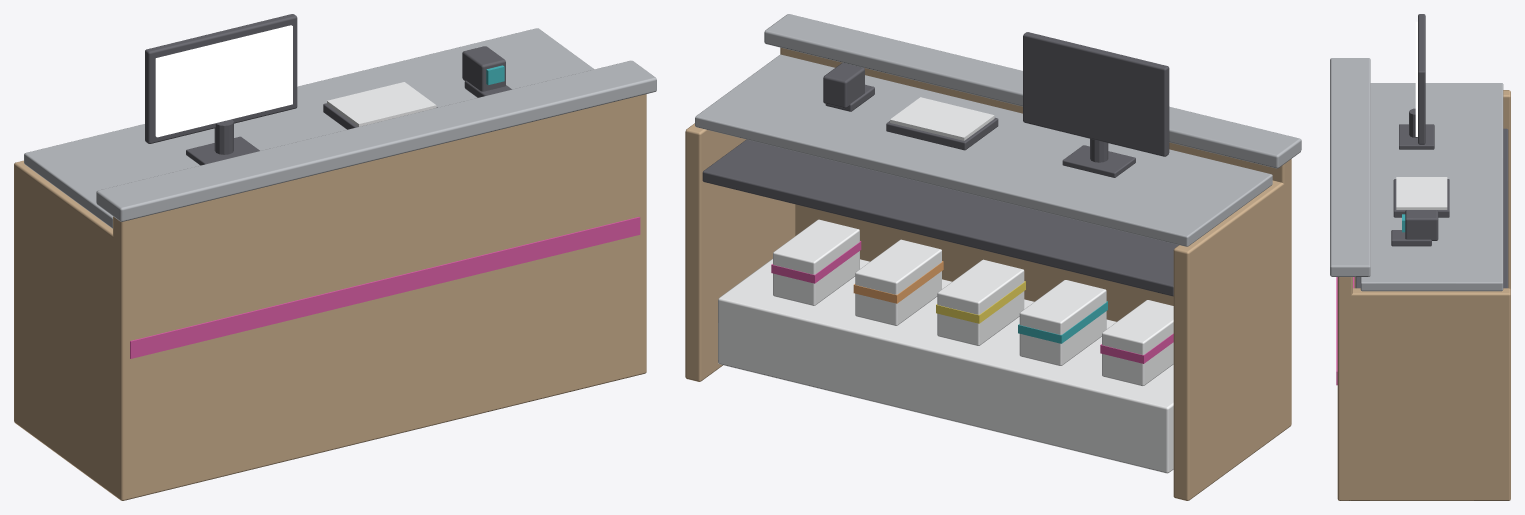
Rendered from tattoo-and-piercing-studio-reception-desk-856d6ac8__34546.glb.
3 views of the same model, side by side, from view 1: azimuth 30°, elevation 25°; view 2: azimuth 150°, elevation 25°; view 3: azimuth 270°, elevation 25° (orthographic). The views are drawn at different scales.
Visible parts, largest first — view 1: reception-desk; view 2: reception-desk; view 3: reception-desk.
Boxes of the visible parts, <box> form: reception-desk: <box>14,14,656,500</box>; reception-desk: <box>685,14,1301,500</box>; reception-desk: <box>1330,14,1510,500</box>.
Bounding box in the file's own units: 1.94 × 1.36 × 0.71.
